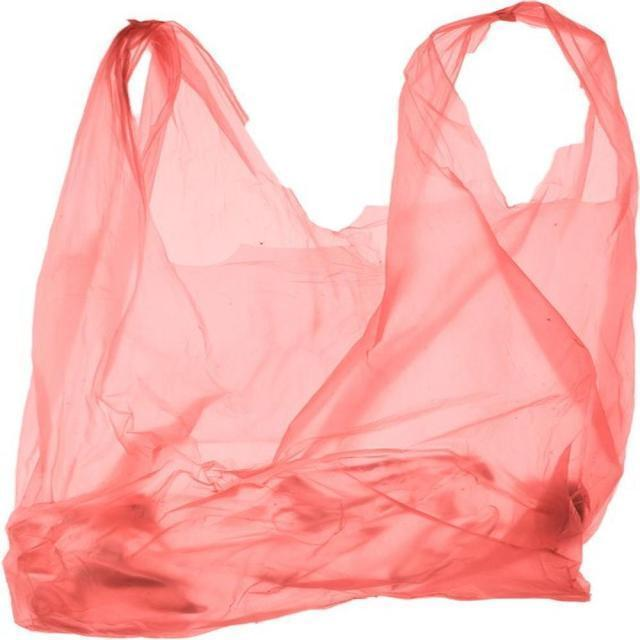Plastic_Bag: (27, 7, 640, 628)
